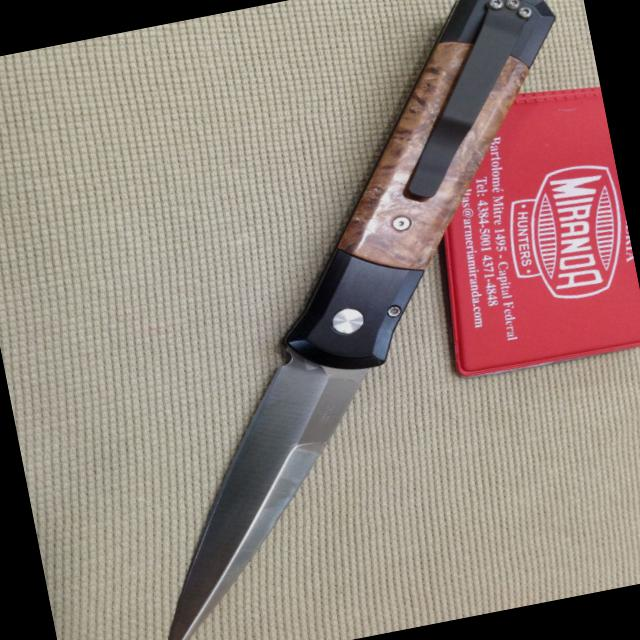knife: (95, 298, 439, 639)
